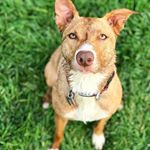puppy: (40, 1, 137, 150)
